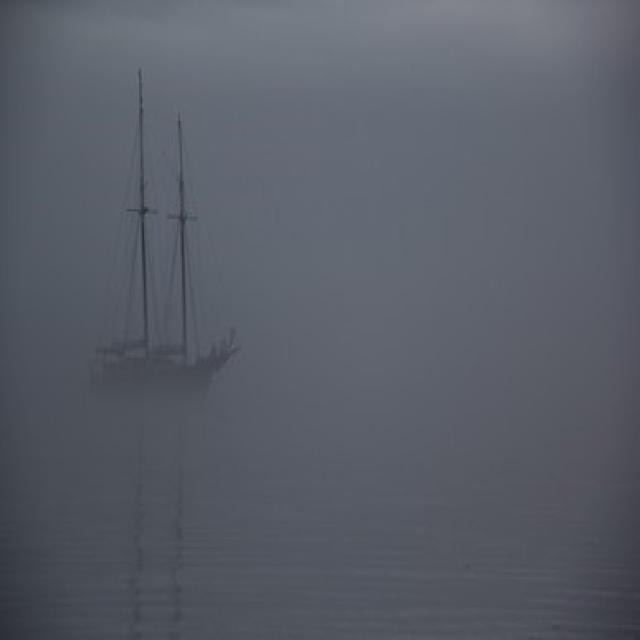fishing boat: (90, 66, 260, 404)
